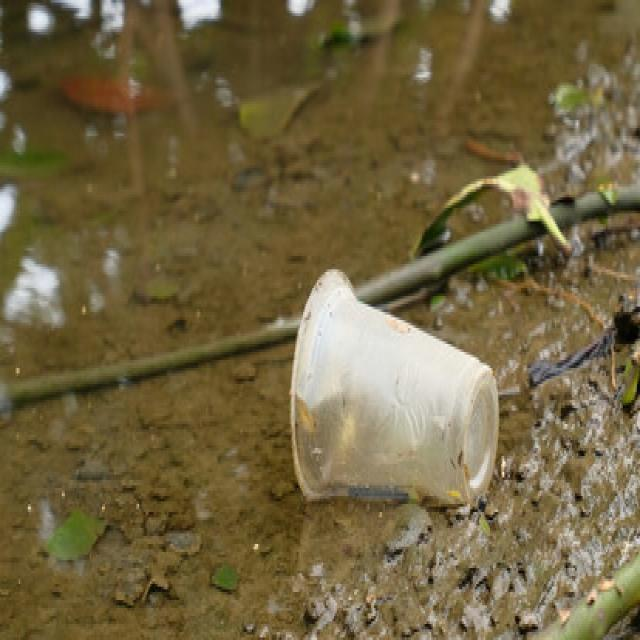Plastic: (285, 264, 504, 502)
